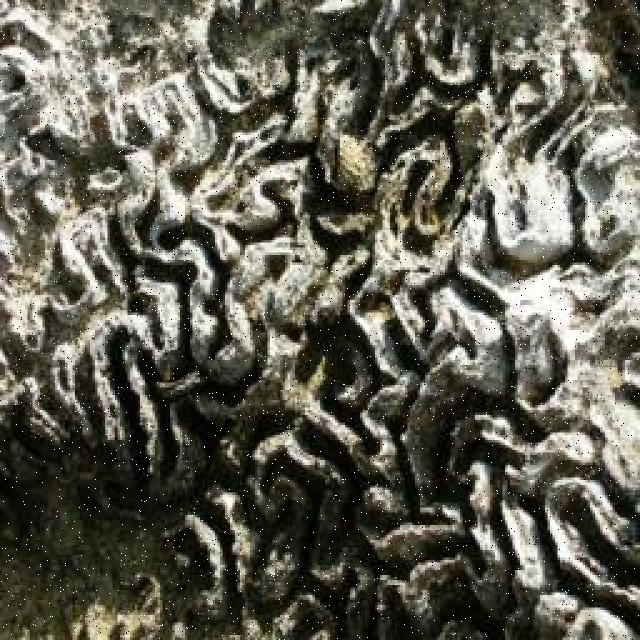reefs: (0, 1, 638, 638)
